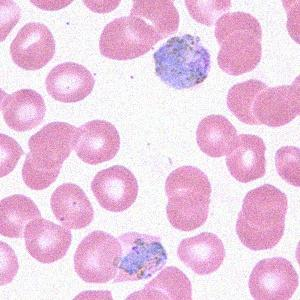Infected: (154, 33, 210, 91), (112, 231, 166, 283)
Uninfected: (237, 184, 287, 249), (164, 164, 211, 230), (215, 11, 262, 74), (99, 16, 158, 60), (73, 230, 121, 282), (27, 122, 78, 169), (223, 131, 267, 183), (49, 182, 94, 230), (91, 165, 136, 212), (10, 22, 55, 69), (227, 77, 270, 126), (24, 217, 70, 262), (75, 119, 120, 164), (248, 257, 296, 299), (197, 113, 242, 157), (45, 62, 94, 102), (179, 232, 224, 274), (2, 88, 45, 131), (256, 84, 300, 126), (130, 0, 179, 37), (140, 265, 191, 299), (1, 193, 40, 237), (22, 152, 62, 191), (187, 0, 233, 26)
